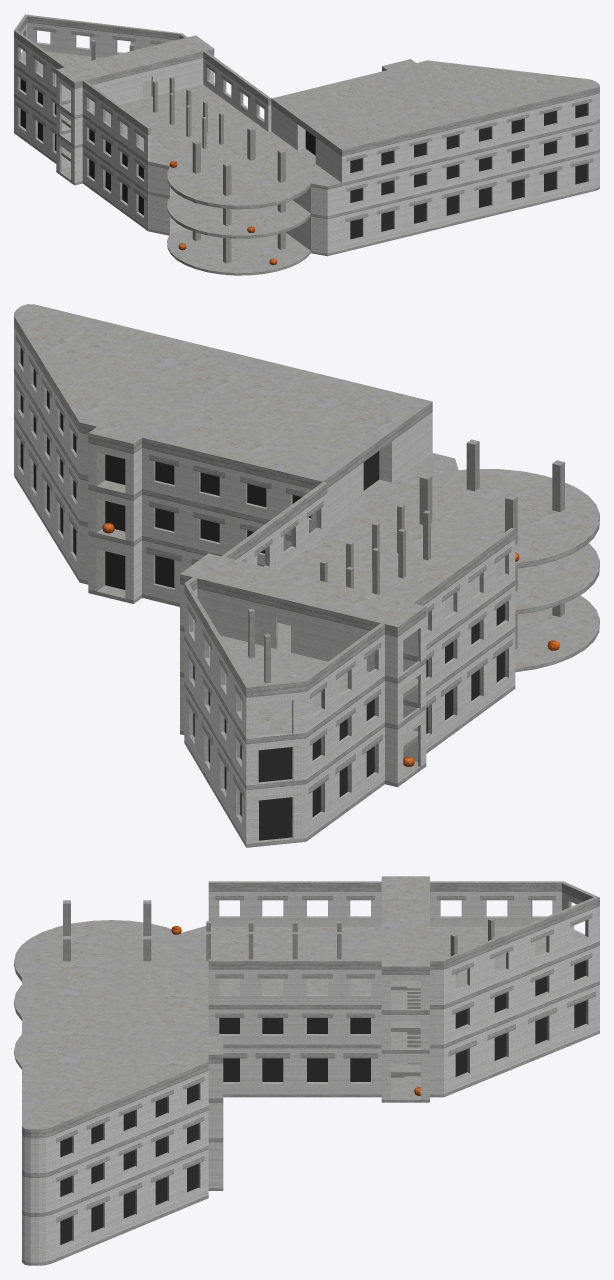
File: abandoned_building.glb
3 renders of one model, top to bottom at view 1: azimuth 30°, elevation 25°; view 2: azimuth 150°, elevation 25°; view 3: azimuth 270°, elevation 25°, orthographic. The views are drawn at different scales.
Parts seen in each view (by area): view 1: Cube_0; view 2: Cube_0; view 3: Cube_0.
Part boxes in pixels (x1=…): Cube_0: x1=14, y1=14, x2=599, y2=275; Cube_0: x1=14, y1=304, x2=599, y2=847; Cube_0: x1=14, y1=876, x2=599, y2=1265.
Size of the model in its own units: 37.58 by 9.4 by 36.69.
1 material, 1 textured.
